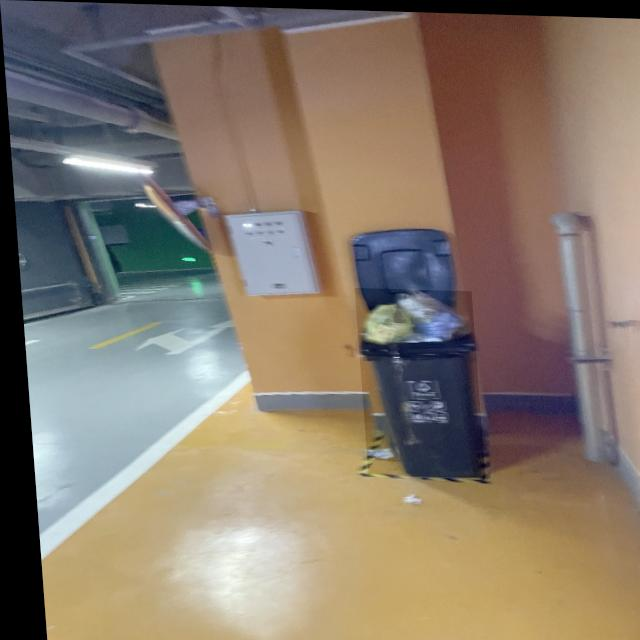overflow: (350, 286, 478, 476)
